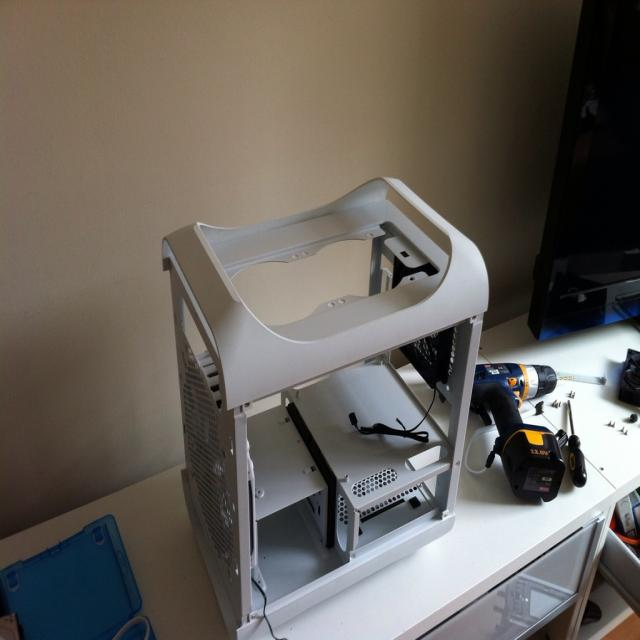desk: (0, 312, 639, 639)
tv: (528, 2, 640, 346)
